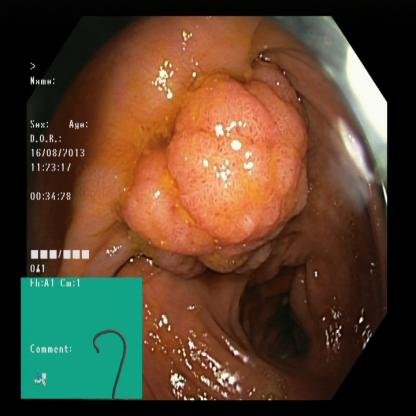Labels: (22, 280, 143, 400), (30, 72, 94, 278)
Polyps: (126, 84, 308, 246)
